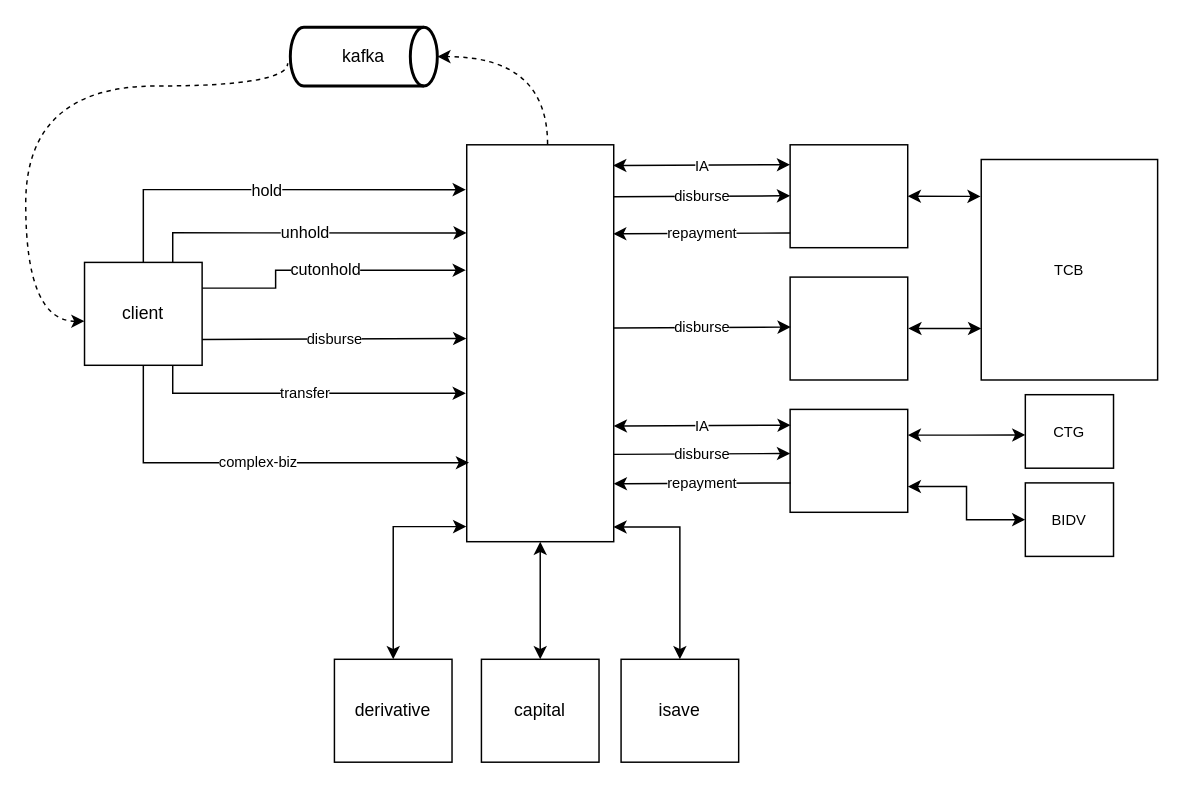
Some shapes in this 1183 by 788 pixel diagram are drawn without their labels. The shapes that lost their labels are listed below. From the top down, each one's centre as x and y in pixels, then its label:
At [848,195]: "silkgate".
At [539,342]: "cashservice".
At [848,328]: "h2h".
At [848,460]: "isocias".
